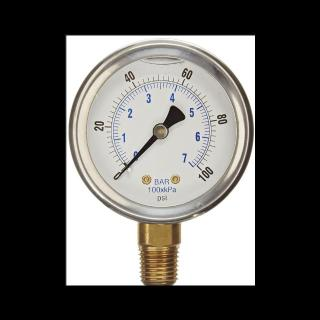gauge: (66, 35, 254, 229), (111, 164, 129, 184), (191, 160, 209, 178), (152, 122, 168, 139), (114, 171, 123, 181)
